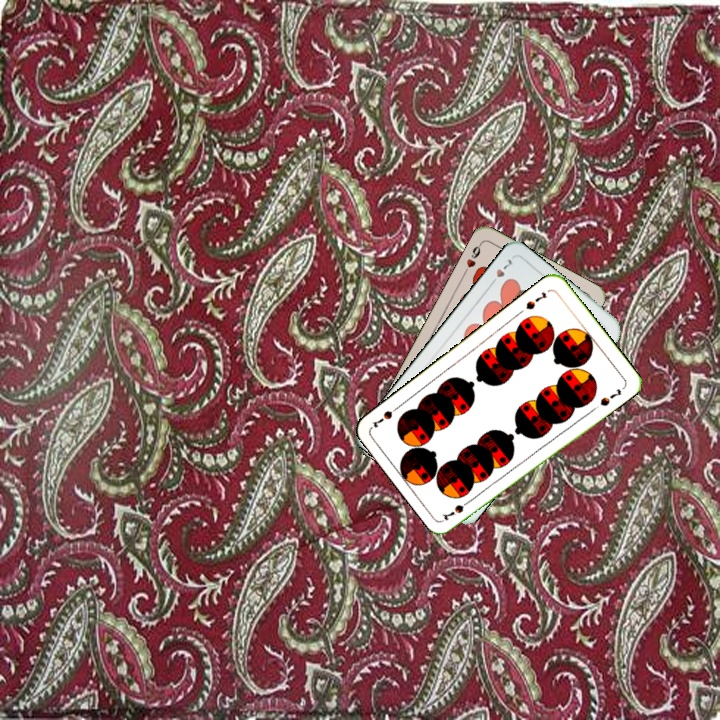H7: (486, 255, 515, 289)
H9: (460, 239, 485, 276)
S7: (440, 494, 476, 523), (522, 287, 550, 312)
